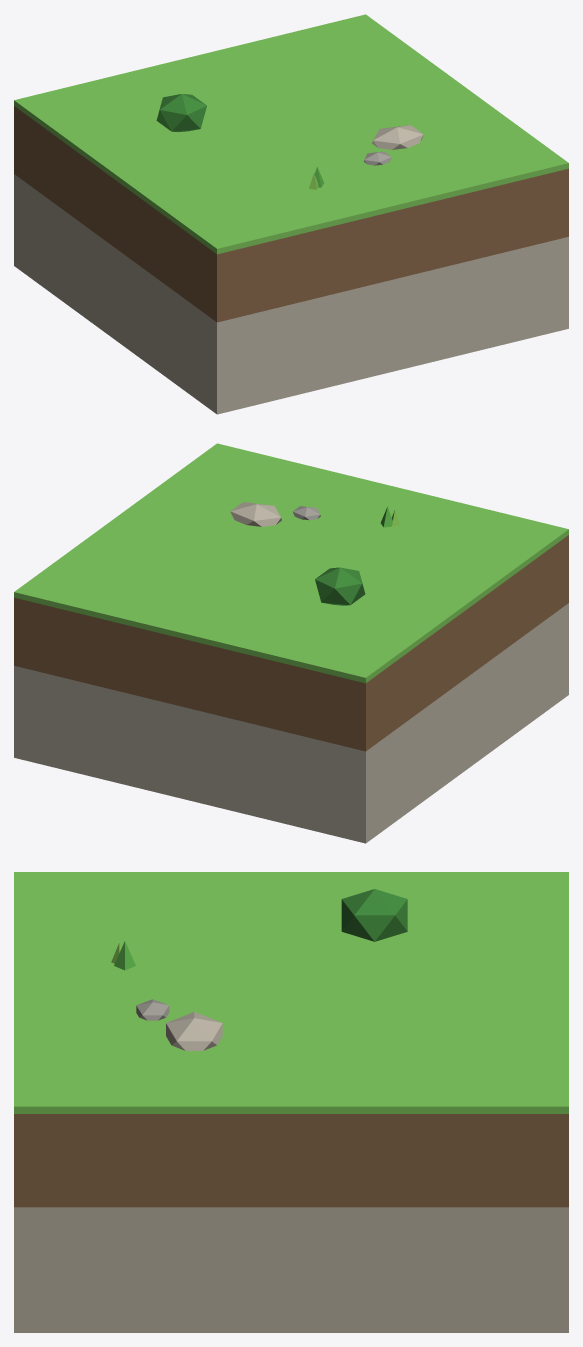
Rendered from morro.glb.
3 views of the same model, one above another, from view 1: azimuth 30°, elevation 25°; view 2: azimuth 150°, elevation 25°; view 3: azimuth 270°, elevation 25° (orthographic). The views are drawn at different scales.
Visible parts, largest first — view 1: corpo; view 2: corpo; view 3: corpo.
Part boxes in pixels (<box>): corpo: <box>14,14,568,414</box>; corpo: <box>14,443,568,843</box>; corpo: <box>14,872,568,1332</box>.
Bounding box in the file's own units: 2 × 1.09 × 2.
